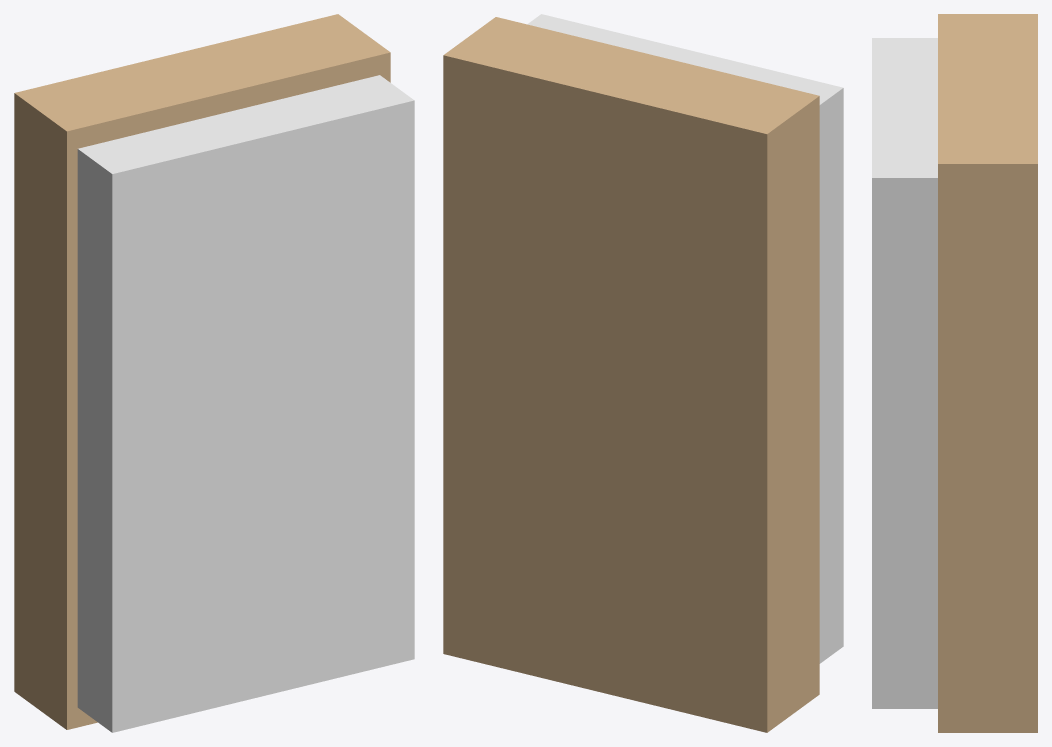
Rendered from chair.obj.
The picture shows the model from 3 angles, left to right: view 1: azimuth 30°, elevation 25°; view 2: azimuth 150°, elevation 25°; view 3: azimuth 270°, elevation 25°; orthographic projection. The views are drawn at different scales.
Parts seen in each view (by area): view 1: group_0_16448250, group_0_14860437; view 2: group_0_14860437, group_0_16448250; view 3: group_0_14860437, group_0_16448250.
Part boxes in pixels (x1=…): group_0_16448250: x1=77, y1=75, x2=414, y2=732; group_0_14860437: x1=14, y1=14, x2=390, y2=729; group_0_14860437: x1=443, y1=17, x2=819, y2=732; group_0_16448250: x1=527, y1=14, x2=843, y2=663; group_0_14860437: x1=938, y1=14, x2=1037, y2=732; group_0_16448250: x1=872, y1=38, x2=937, y2=708.
Size of the model in its own units: 30 by 53 by 14.
